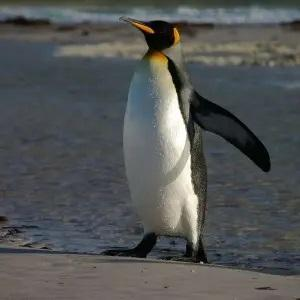king: (101, 7, 269, 276)
